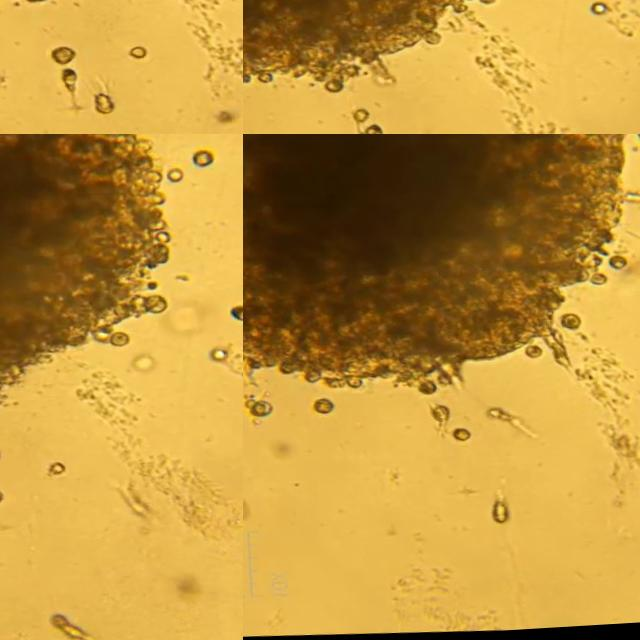cell: (475, 409, 529, 444), (38, 616, 76, 640), (186, 155, 208, 176), (54, 72, 69, 100), (223, 314, 243, 335), (551, 316, 572, 335), (123, 358, 145, 376), (303, 398, 325, 416), (482, 502, 498, 526), (243, 398, 263, 417), (83, 96, 101, 117), (423, 407, 440, 428), (43, 48, 62, 66), (38, 465, 56, 481), (202, 354, 221, 369), (603, 259, 619, 276), (164, 175, 180, 190), (579, 278, 599, 290), (518, 349, 533, 364), (120, 49, 136, 63), (584, 6, 598, 22), (444, 431, 460, 445), (631, 134, 640, 155), (353, 125, 371, 134), (345, 111, 356, 125)
tumor_mass: (243, 134, 621, 396), (243, 0, 487, 96)
